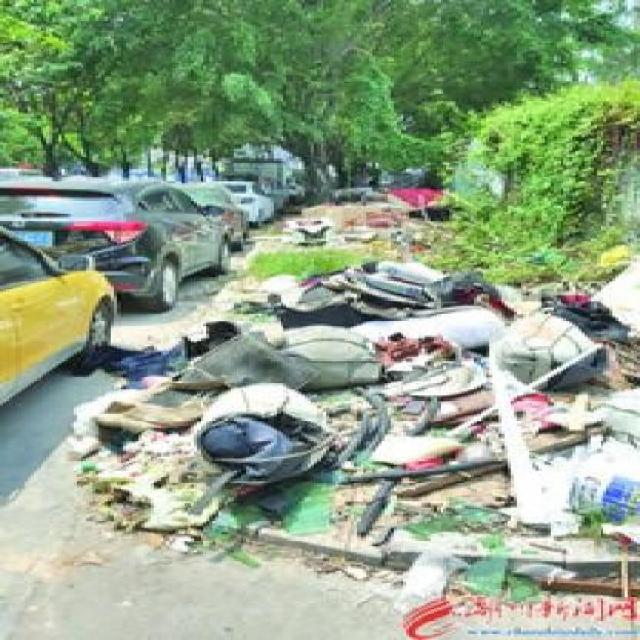garbage: (160, 240, 631, 550)
